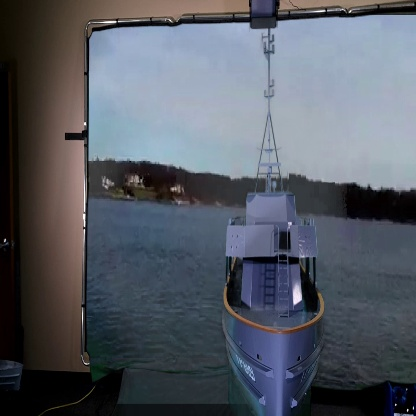YP689: (219, 28, 326, 416)
